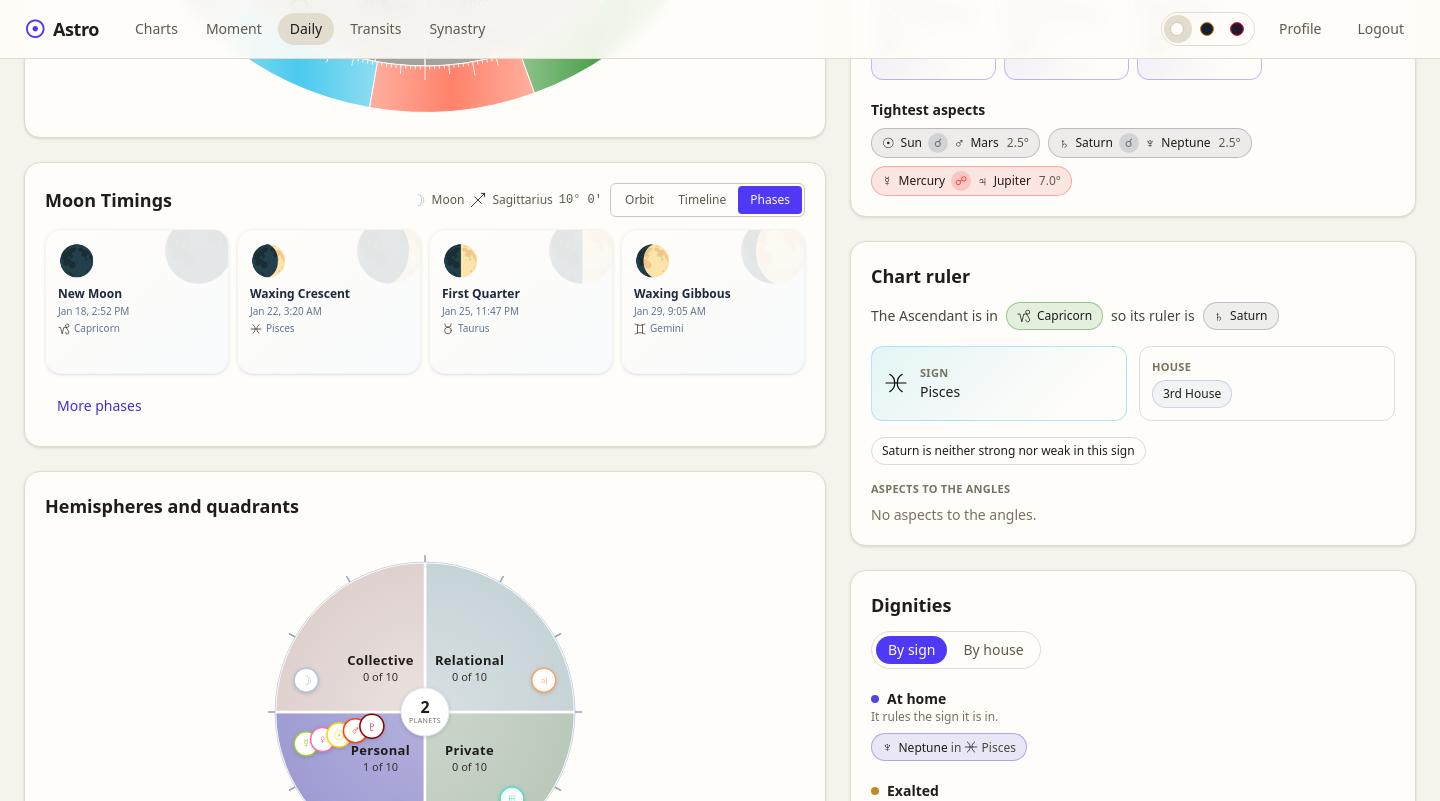
lists the eight phases in date order, each with its date, time and sign
This screenshot has width=1440, height=801.
(page scrolled)
Expected: the button with aria-label "View New Moon details" is shown, [45,228,229,374]
Click the button "More phases": (99, 406) [45,386,154,426]
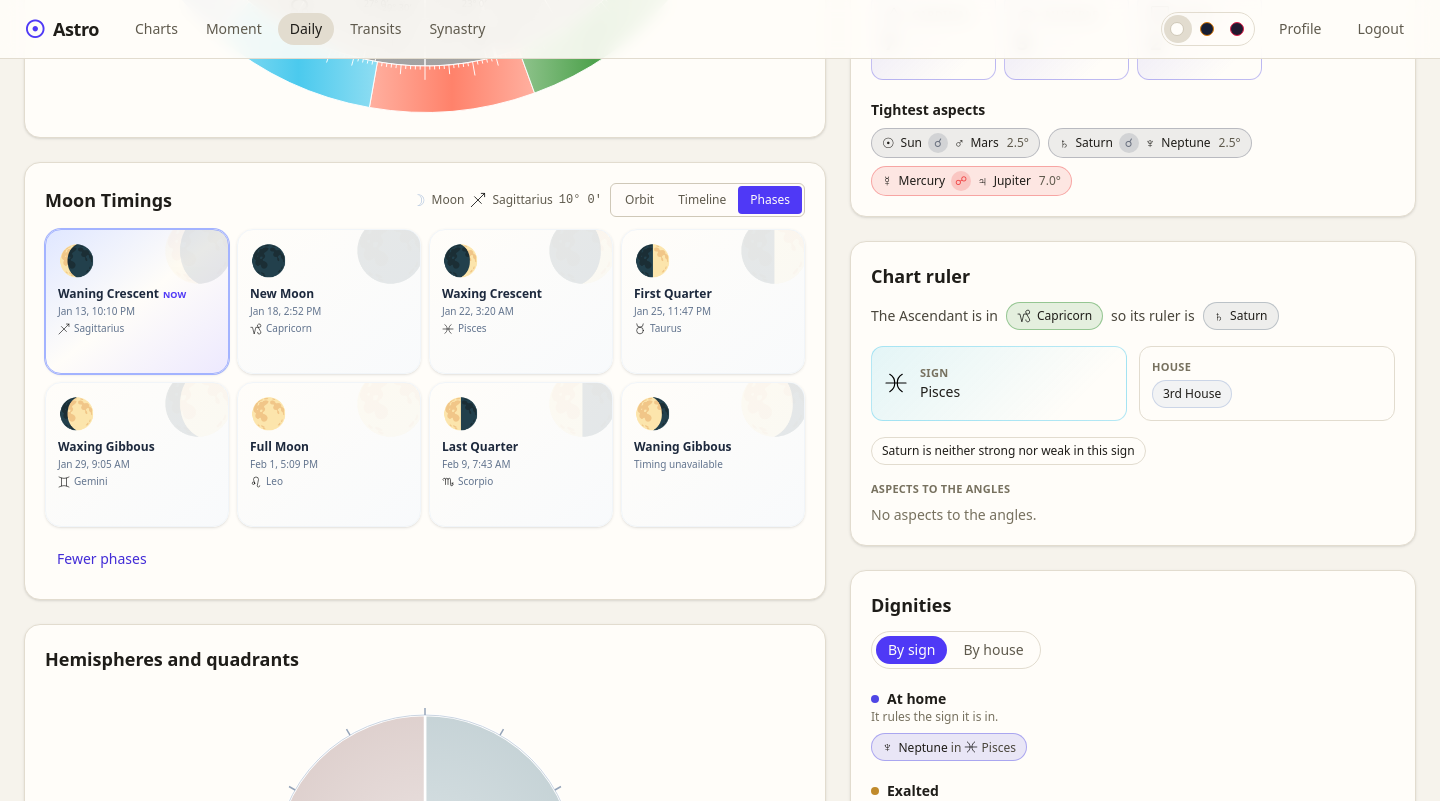
Expected: the button "🌑 🌑 New Moon Jan 18, 2:52 PM Capricorn" is shown, [237,228,421,374]
Click the button "Orbit": (640, 200) [613,186,666,214]
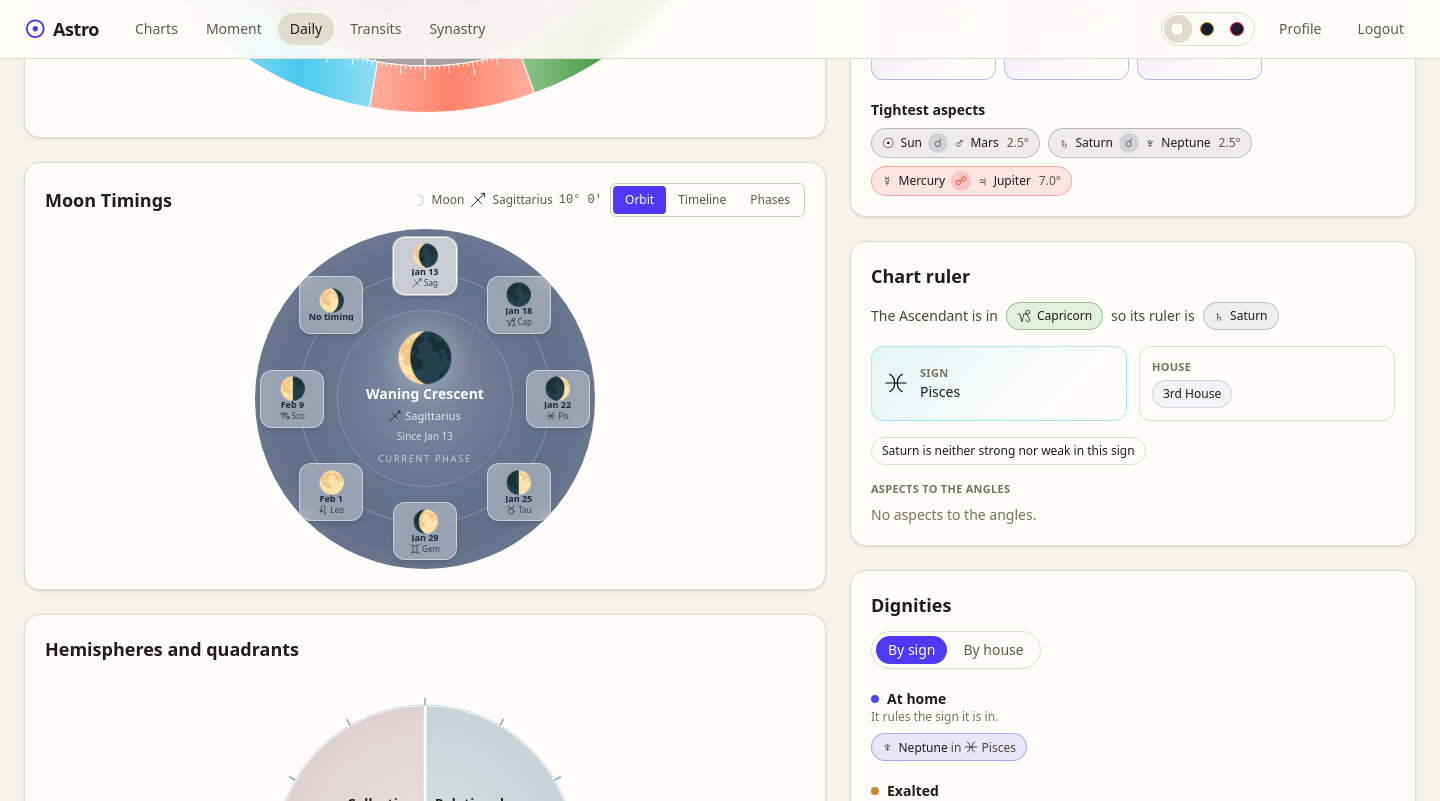
Now the text "Since Jan 13" is shown, box [397,428,453,444]
